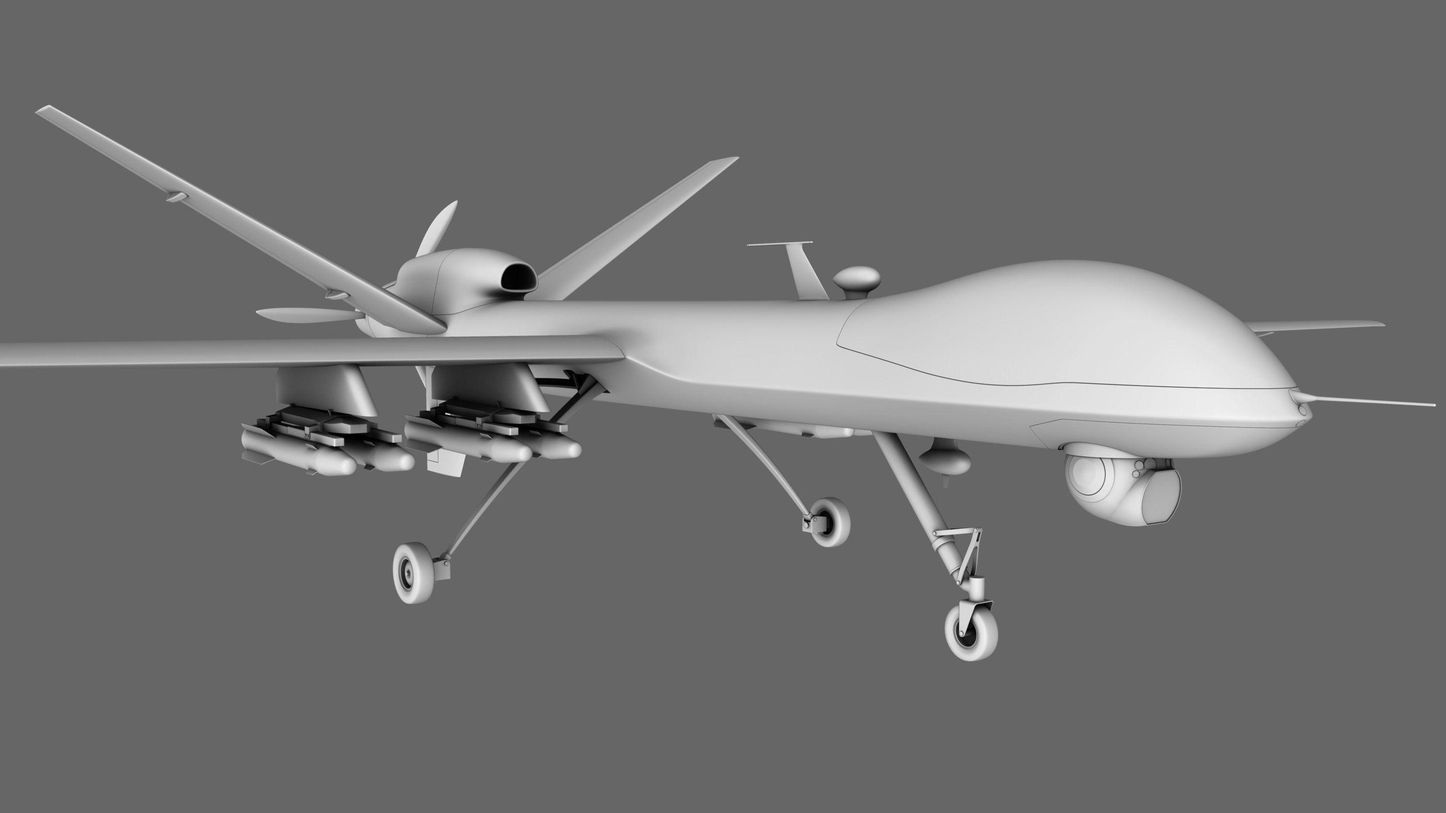aircraft: (34, 137, 1380, 675), (38, 106, 743, 344)
